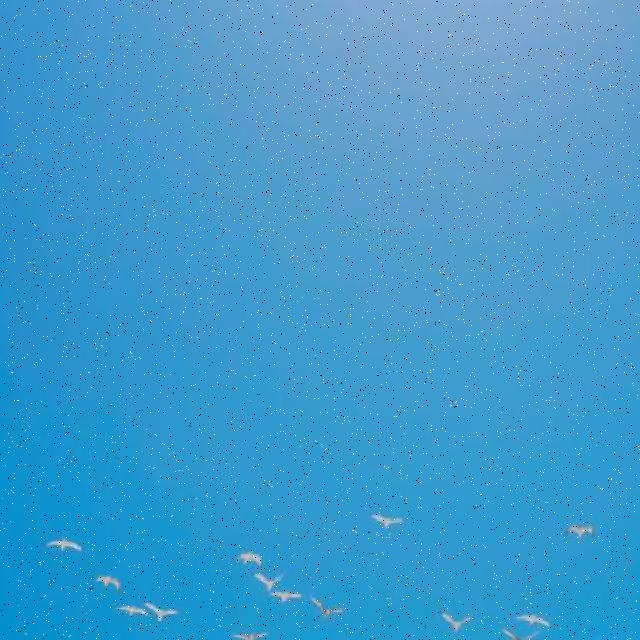bird: (309, 595, 346, 620), (438, 610, 474, 632), (142, 600, 181, 620), (250, 572, 287, 592), (44, 537, 87, 554), (90, 574, 122, 596), (368, 513, 408, 529), (512, 614, 554, 628), (266, 590, 306, 604), (232, 552, 263, 570), (113, 605, 152, 618), (501, 627, 540, 640), (564, 524, 594, 540), (231, 632, 271, 638)
